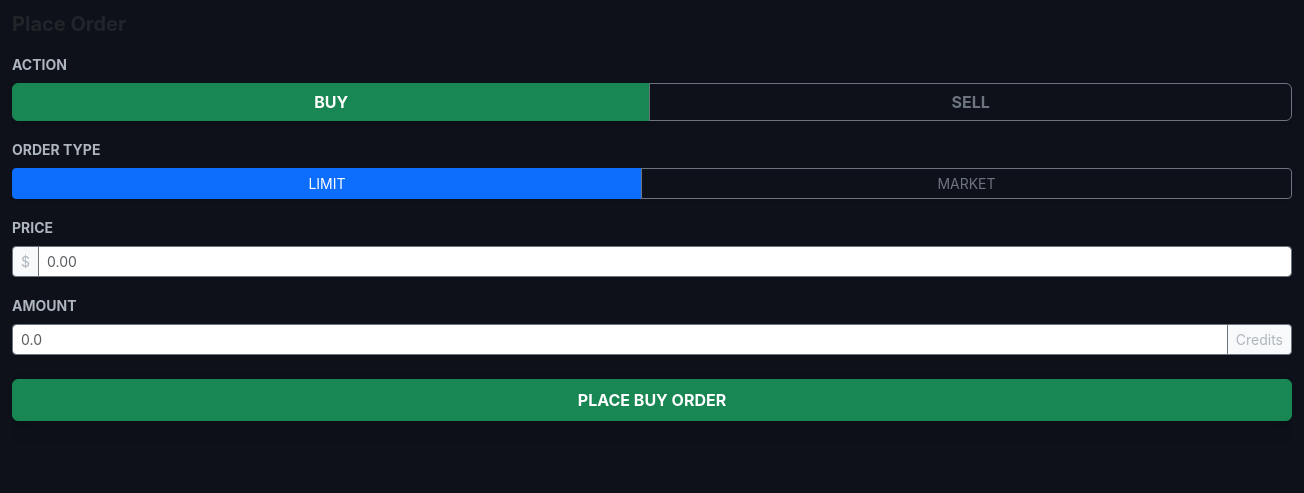
TradingForm › should handle submission error
Step 1. Type "10.50" into the number field labelled "Price" → (665, 262), box [38,246,1292,277]
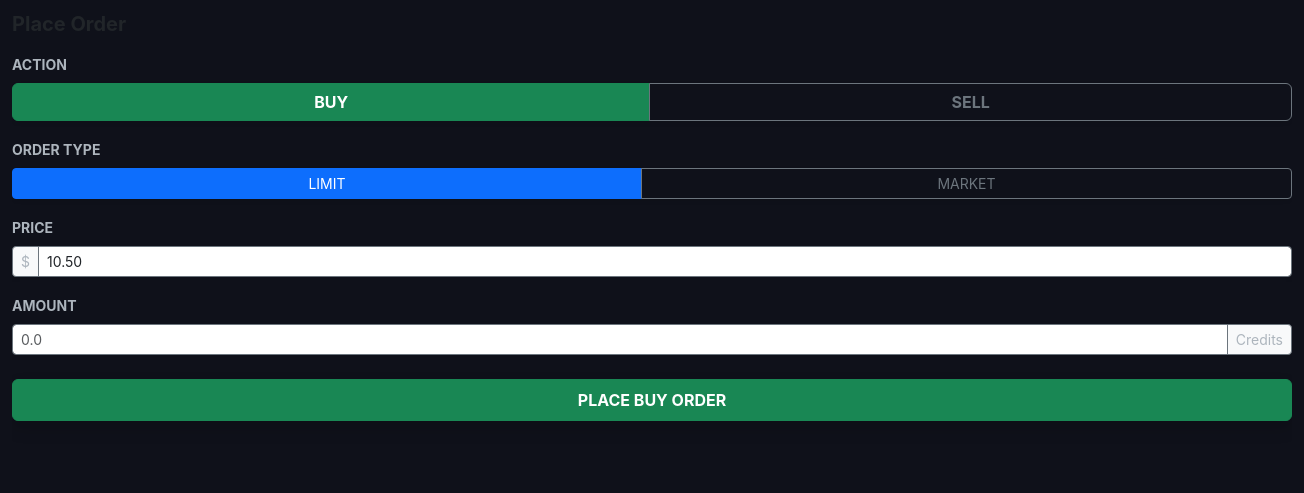
Step 2. Type "5" into the number field labelled "Amount" → (620, 340), box [12,324,1228,355]
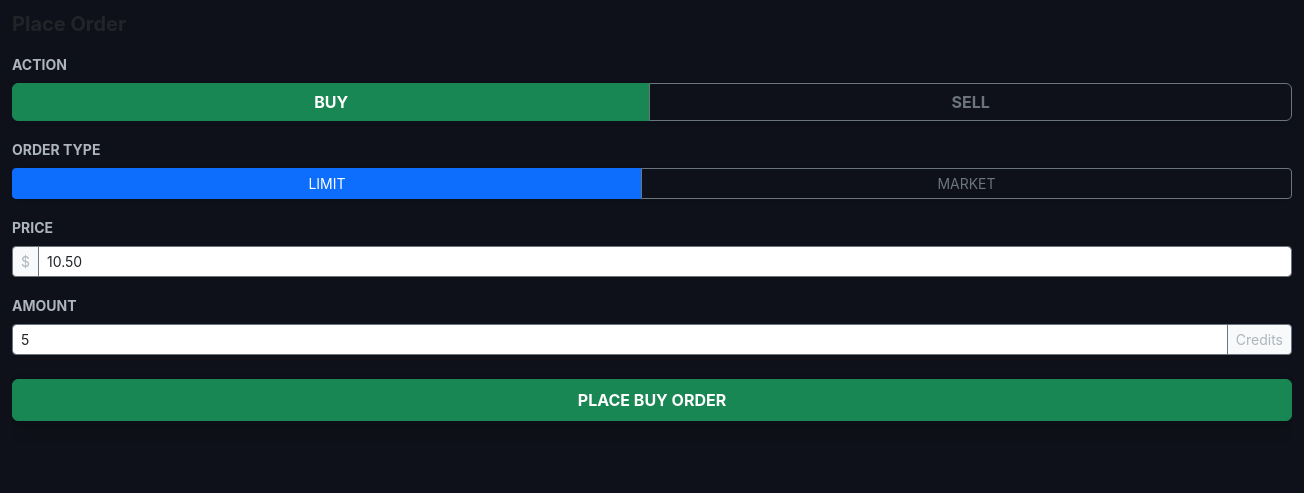
Step 3. Click the button "PLACE BUY ORDER" → (652, 400), box [12,379,1292,421]
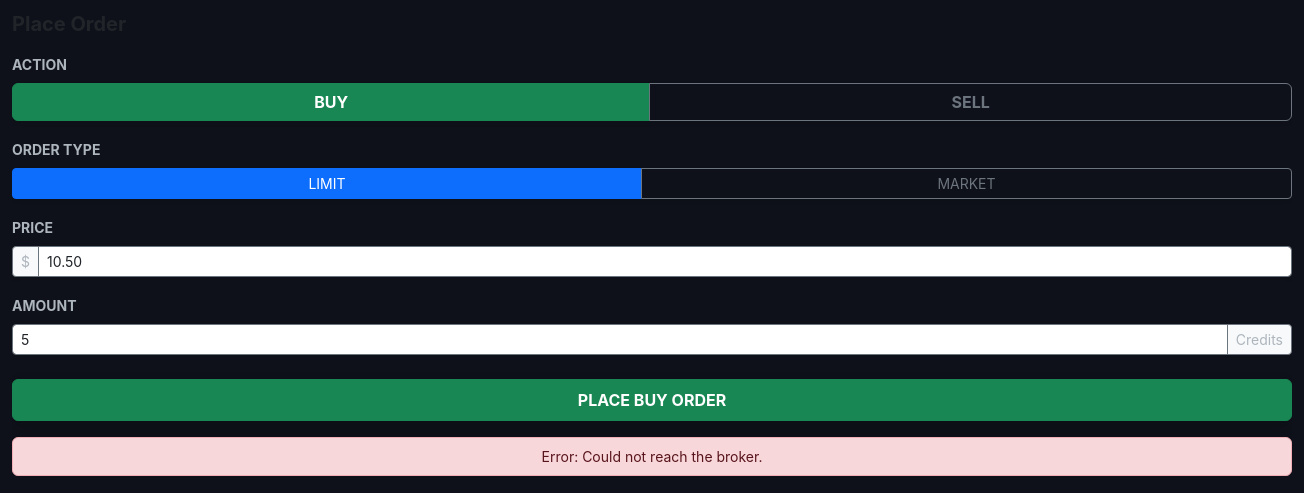
Check: the text "Error: Could not reach the broker." is shown, box [12,437,1292,476]
